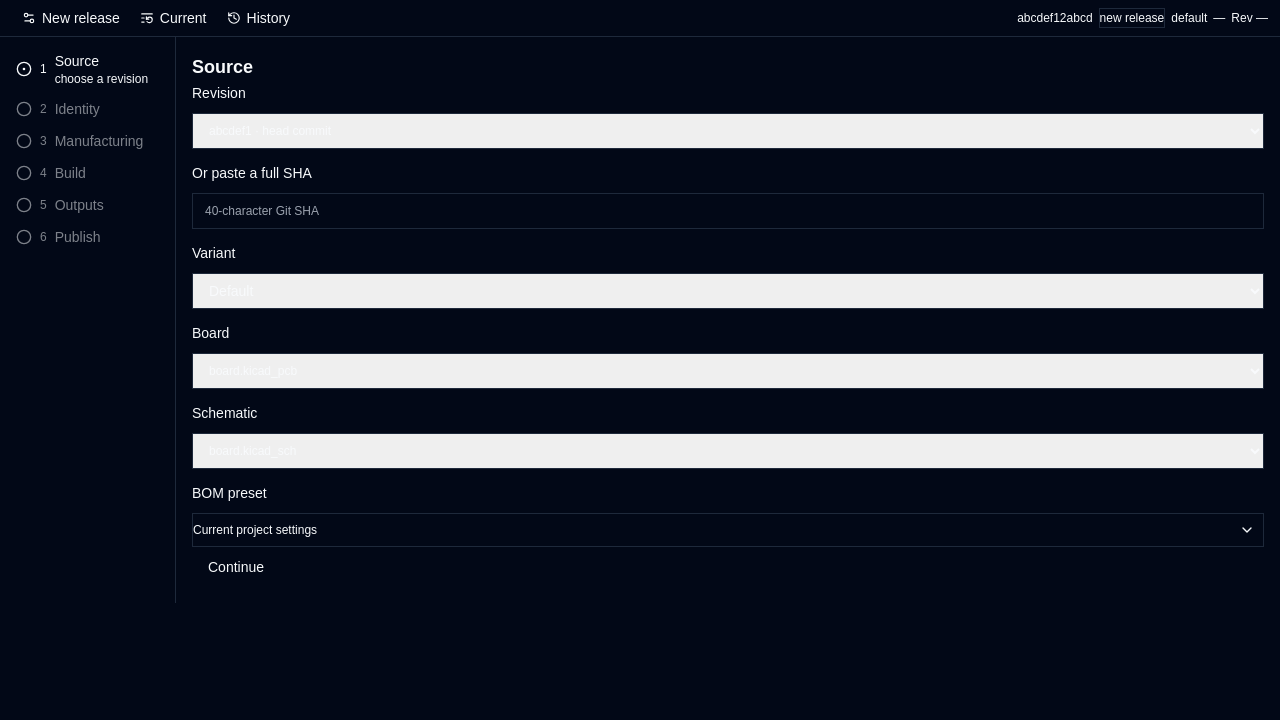
Test: ReleaseStudioPanel › still continues when remembering source picks fails
Click the button "Continue". click: click(236, 567)
box: x1=192 y1=547 x2=280 y2=587
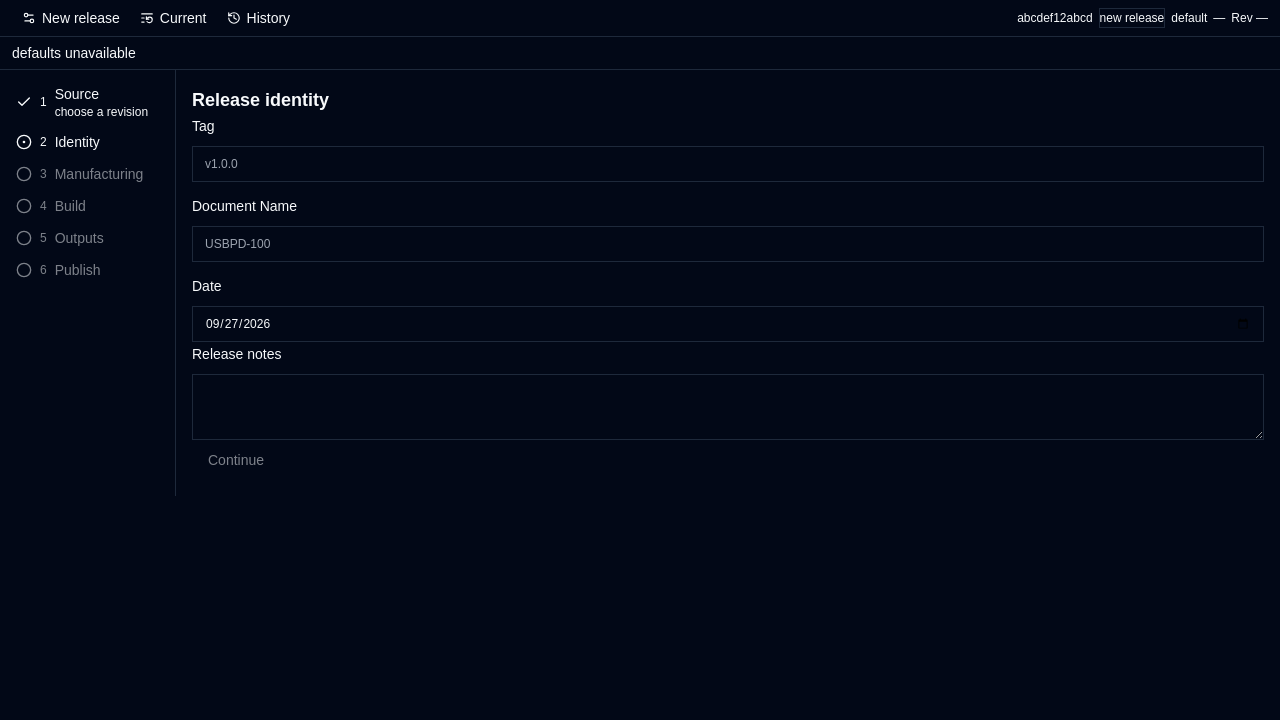
Now the heading "Release identity" is shown, box x1=192 y1=90 x2=329 y2=110
Now the text "defaults unavailable" is shown, box x1=0 y1=37 x2=1279 y2=70
